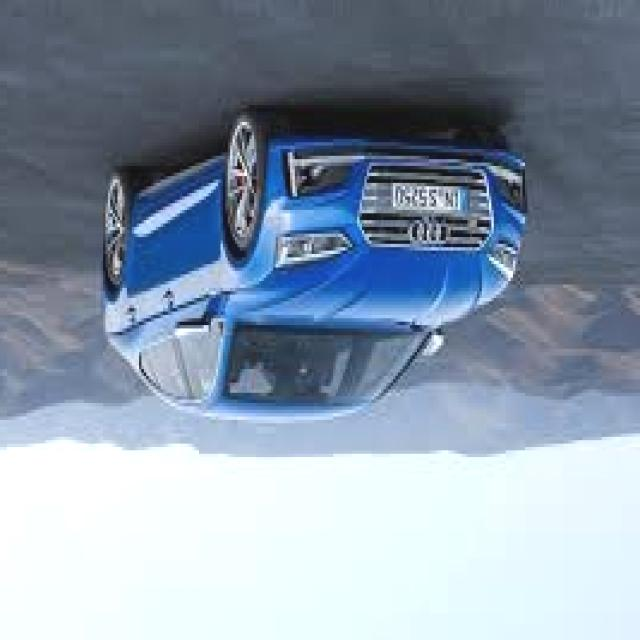blue: (101, 120, 526, 430)
